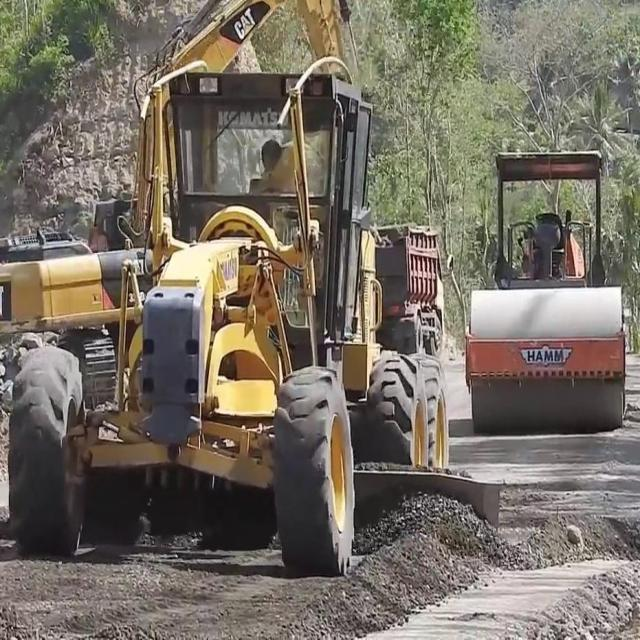buldozerpayloadergrader: (13, 74, 444, 556)
dump_truck: (378, 222, 446, 349)
